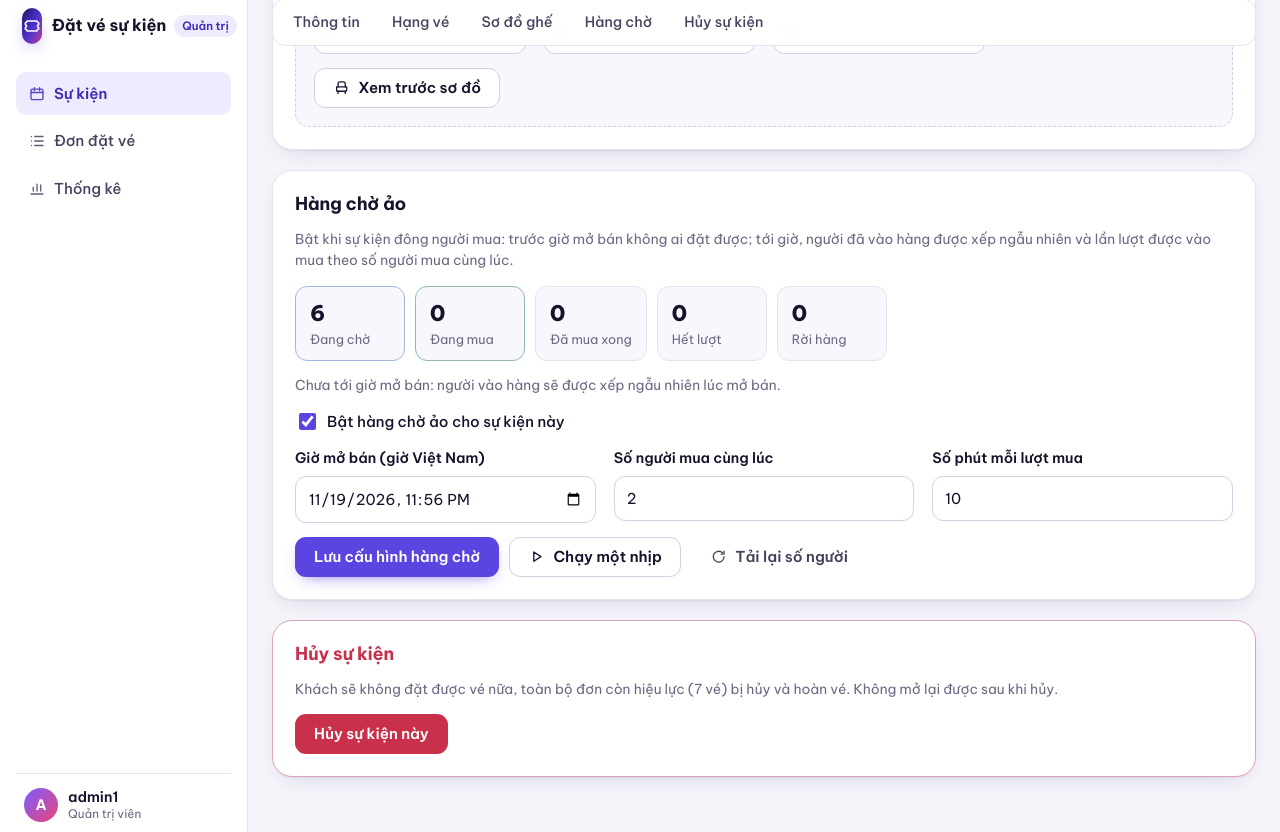
sơ đồ ghế và hàng chờ (quản trị) › bật hàng chờ, xem số người theo trạng thái và chạy một nhịp
This screenshot has width=1280, height=832.
(page scrolled)
Expected: the checkbox labelled "Bật hàng chờ ảo cho sự kiện này" is checked, [299,413,316,430]
Expected: the text "6" is shown, [310,298,325,326]
Replace the text in the field labelled "Số người mua cùng lúc" with "0" at [764, 498], box [614,476,914,521]
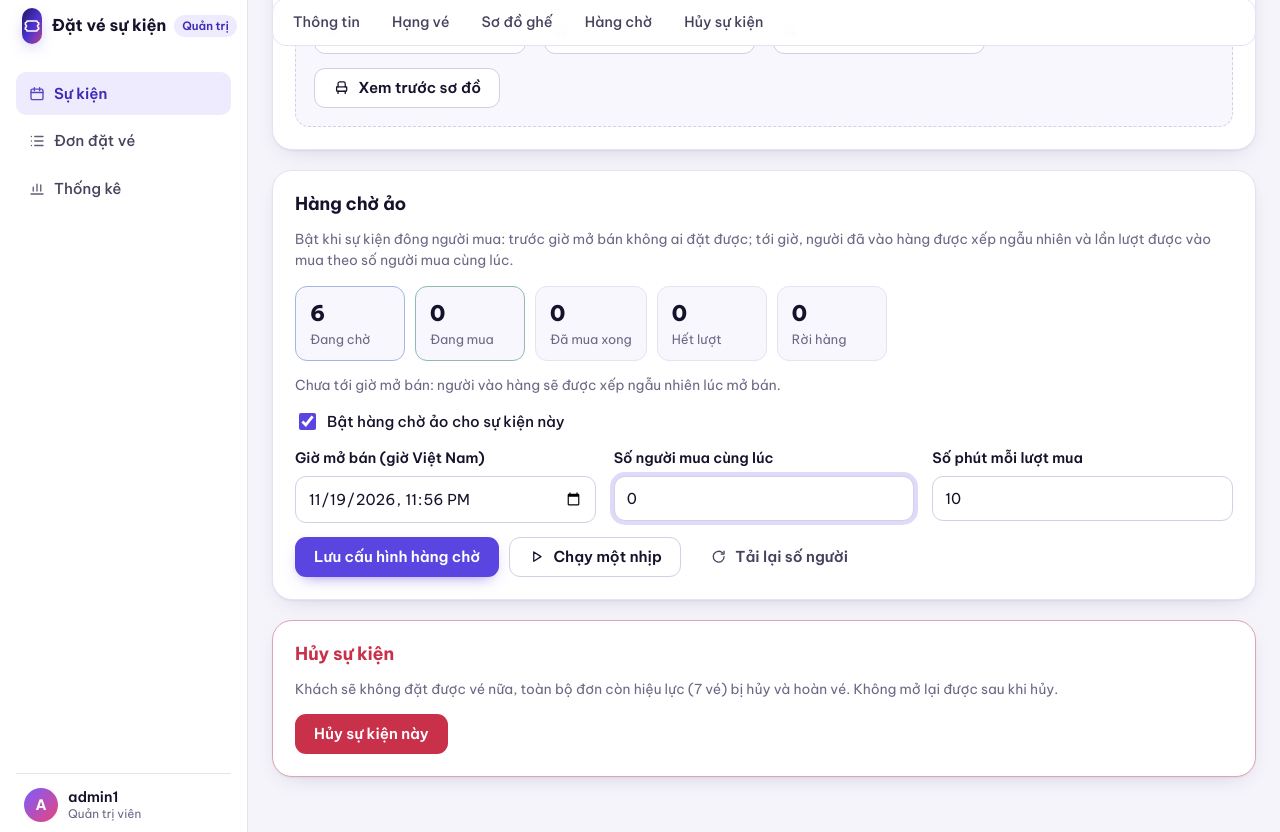
Click the button "Lưu cấu hình hàng chờ" at [397, 557], box [295,537,499,576]
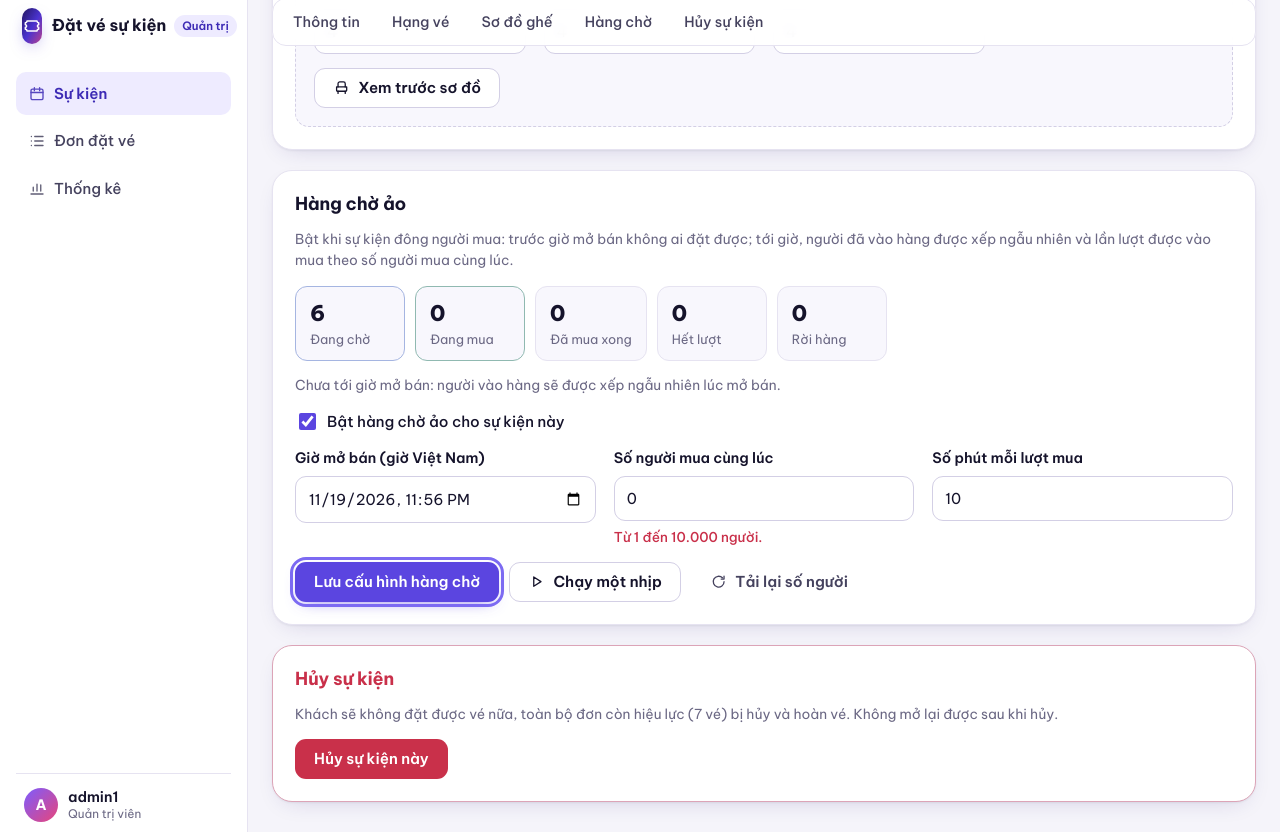
Expected: the text "Từ 1 đến 10.000 người." is shown, [614,528,762,546]
Replace the text in the field labelled "Số người mua cùng lúc" with "3" at [764, 498], box [614,476,914,521]
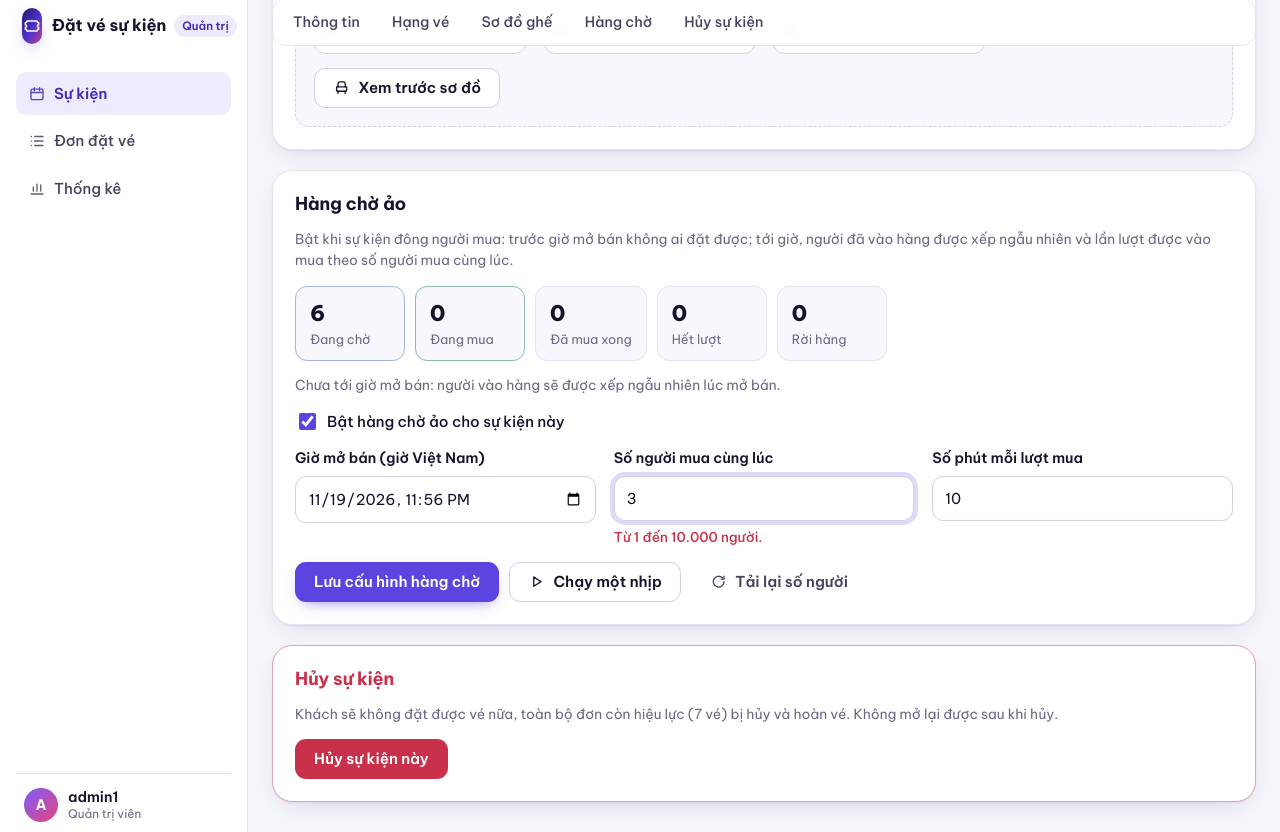
Click the button "Lưu cấu hình hàng chờ" at [397, 582], box [295,562,499,602]
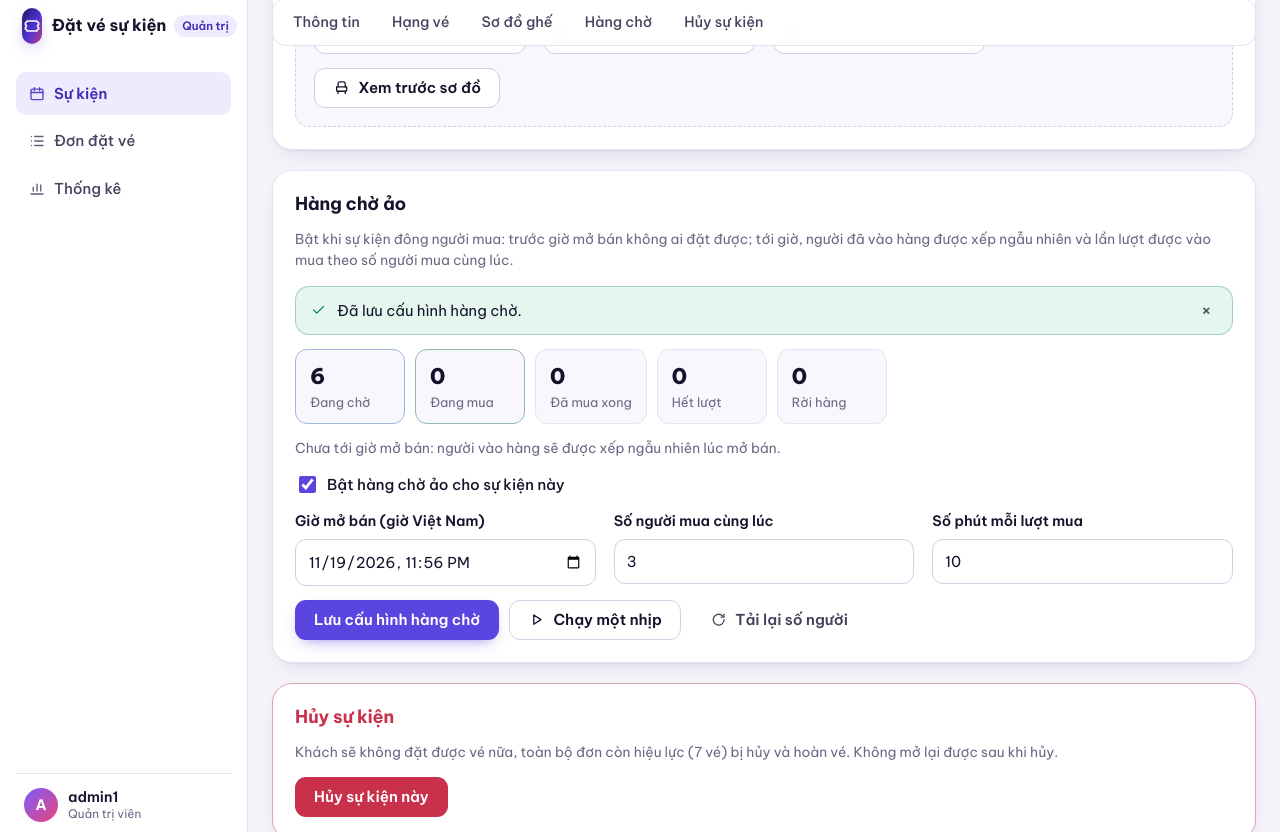
Expected: the text "Đã lưu cấu hình hàng chờ." is shown, [337,300,522,320]
Click the button "Chạy một nhịp" at [595, 620], box [509,600,681,640]
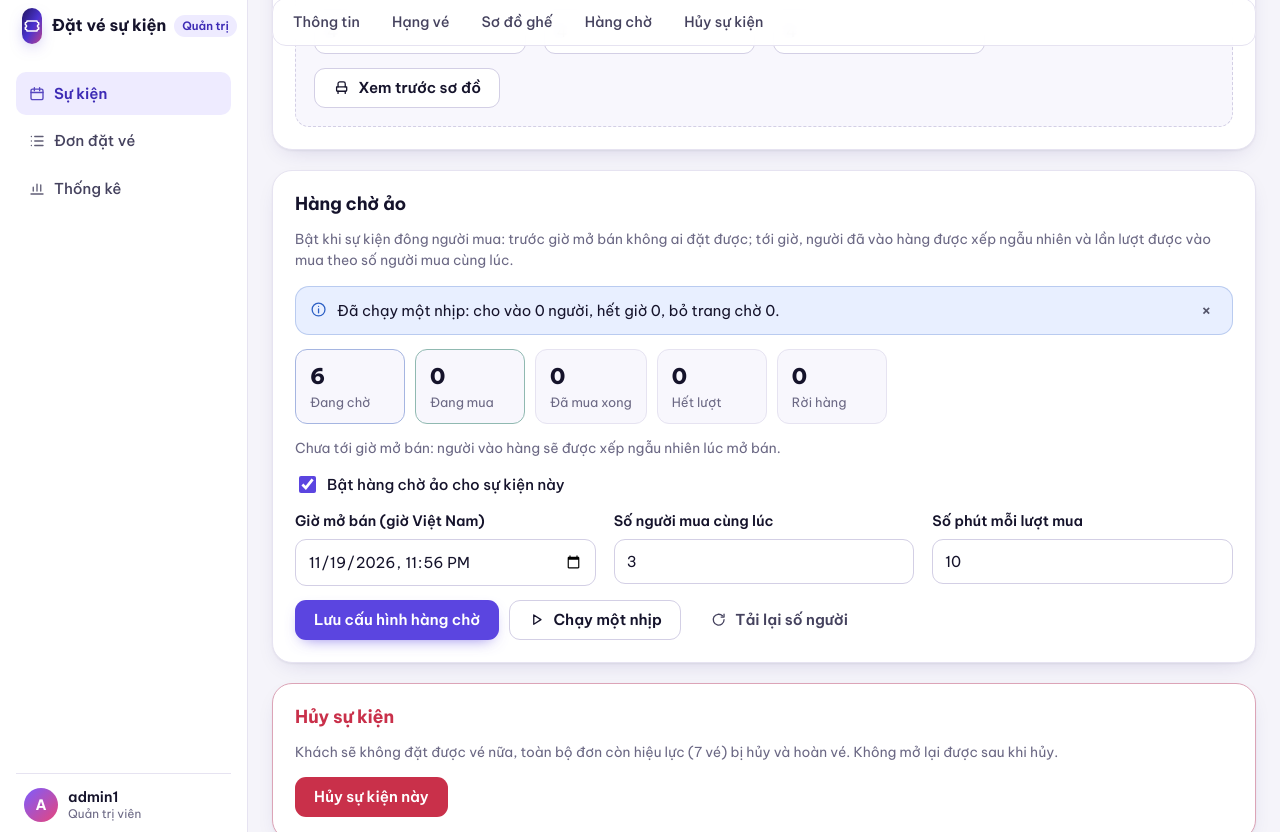
Expected: the text "Đã chạy một nhịp" is shown, [337,300,779,320]
